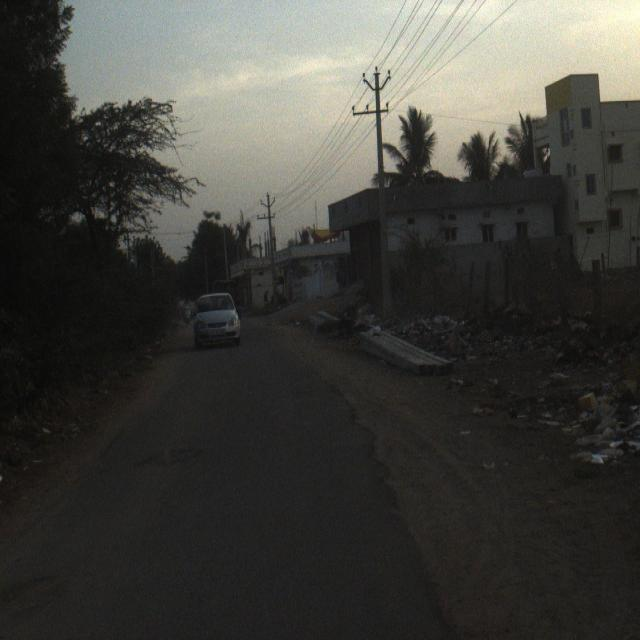pothole: (0, 524, 101, 640), (118, 419, 234, 502)
